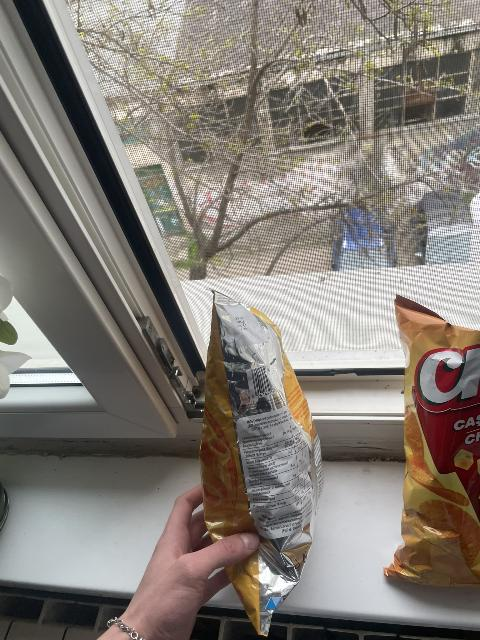Chio Cascaval 125g: (383, 301, 477, 589)
Chio Hula Hoops Cheese 70g: (202, 297, 320, 636)
